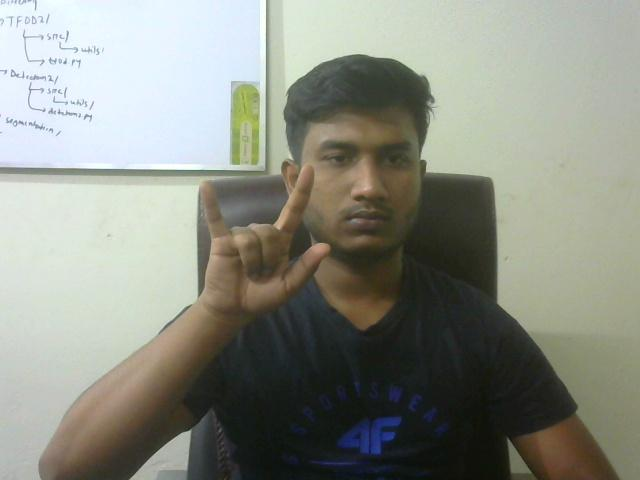IloveYou: (184, 166, 335, 337)
